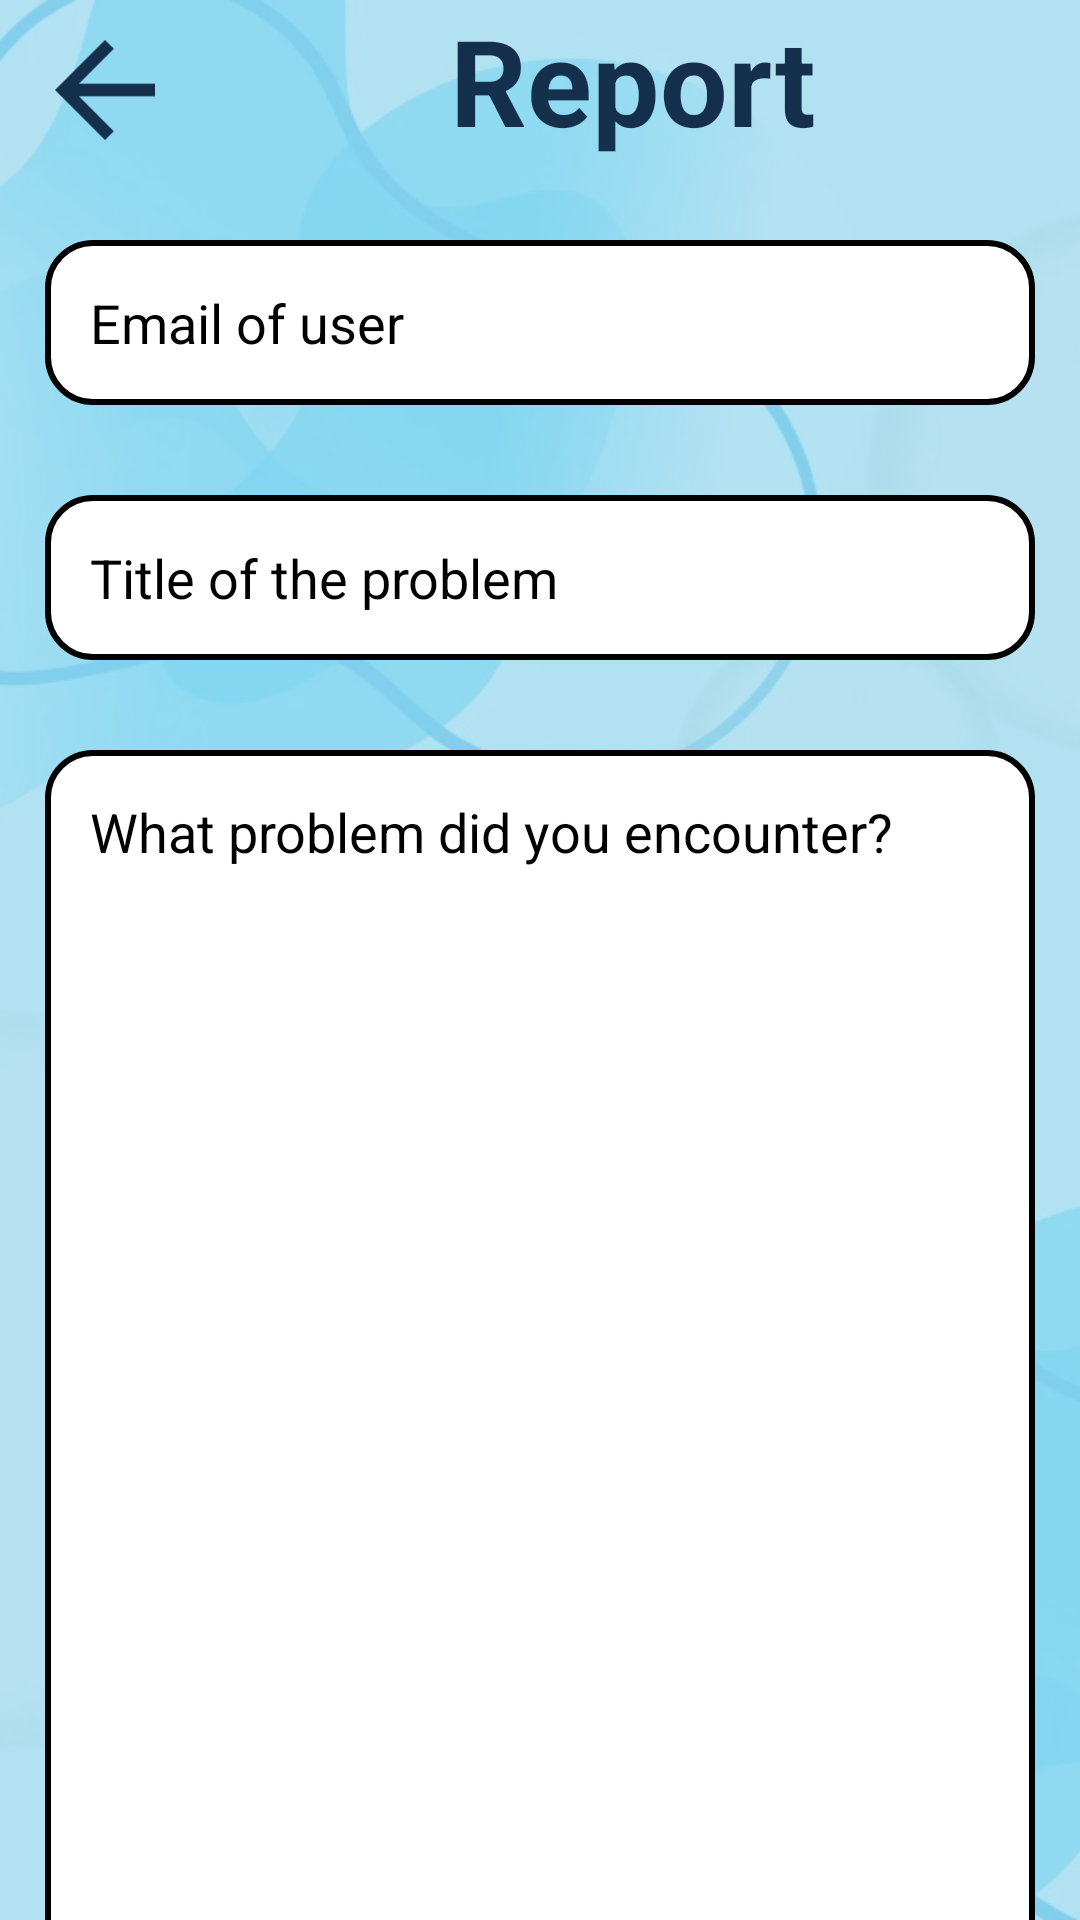

Icon bounding boxes for this 1080px×1920px phone screenshot, format (x1, y1, x2, y2):
arrow back: (0, 15, 155, 165)
